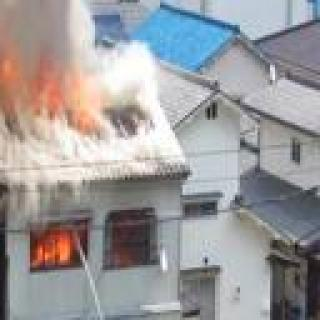fire: (6, 53, 112, 130), (34, 221, 91, 271), (0, 125, 7, 320)
